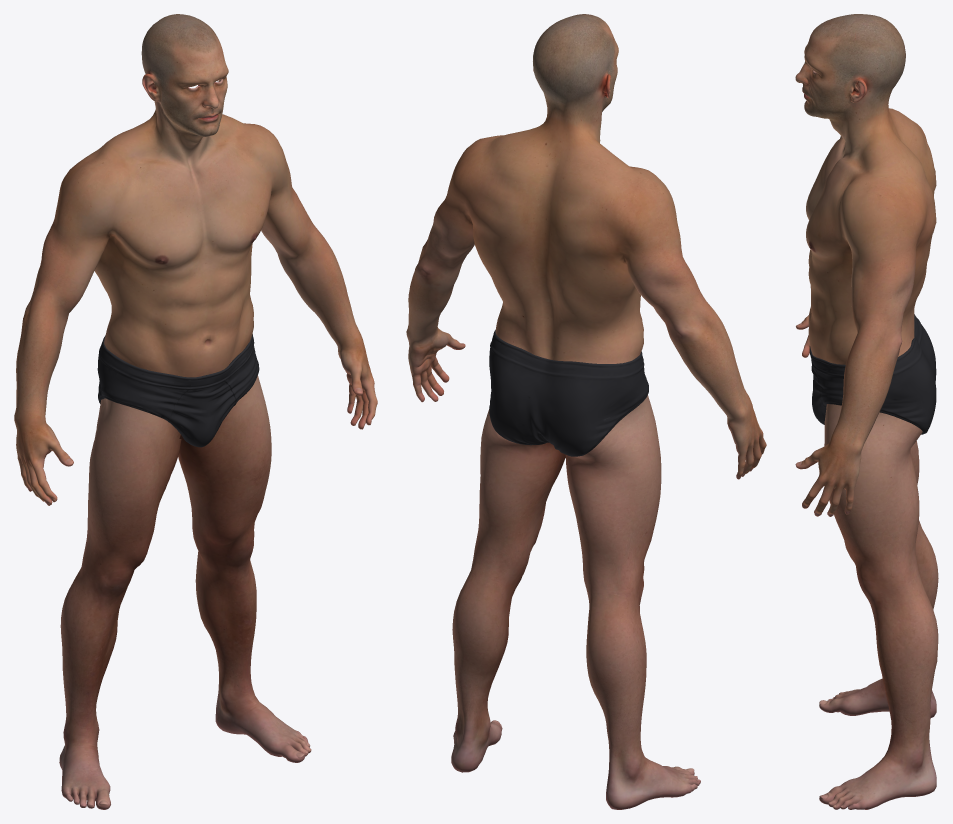
File: skin.glb
3 renders of one model, left to right at view 1: azimuth 30°, elevation 25°; view 2: azimuth 150°, elevation 25°; view 3: azimuth 270°, elevation 25°, orthographic.
Visible parts, largest first — view 1: Body_m, Underwear_m; view 2: Body_m, Underwear_m; view 3: Body_m, Underwear_m.
Boxes of the visible parts, x1=… form: Body_m: x1=14, y1=14, x2=377, y2=809; Underwear_m: x1=97, y1=334, x2=259, y2=447; Body_m: x1=406, y1=14, x2=766, y2=809; Underwear_m: x1=489, y1=330, x2=648, y2=456; Body_m: x1=795, y1=14, x2=938, y2=809; Underwear_m: x1=809, y1=314, x2=936, y2=434.
Bounding box in the file's own units: 0.8592 × 1.8 × 0.3151.
2 materials, 1 textured.
